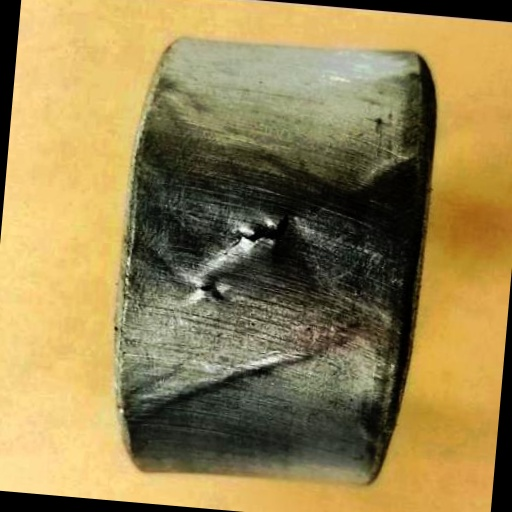crack: (235, 206, 300, 253), (194, 279, 217, 296)
